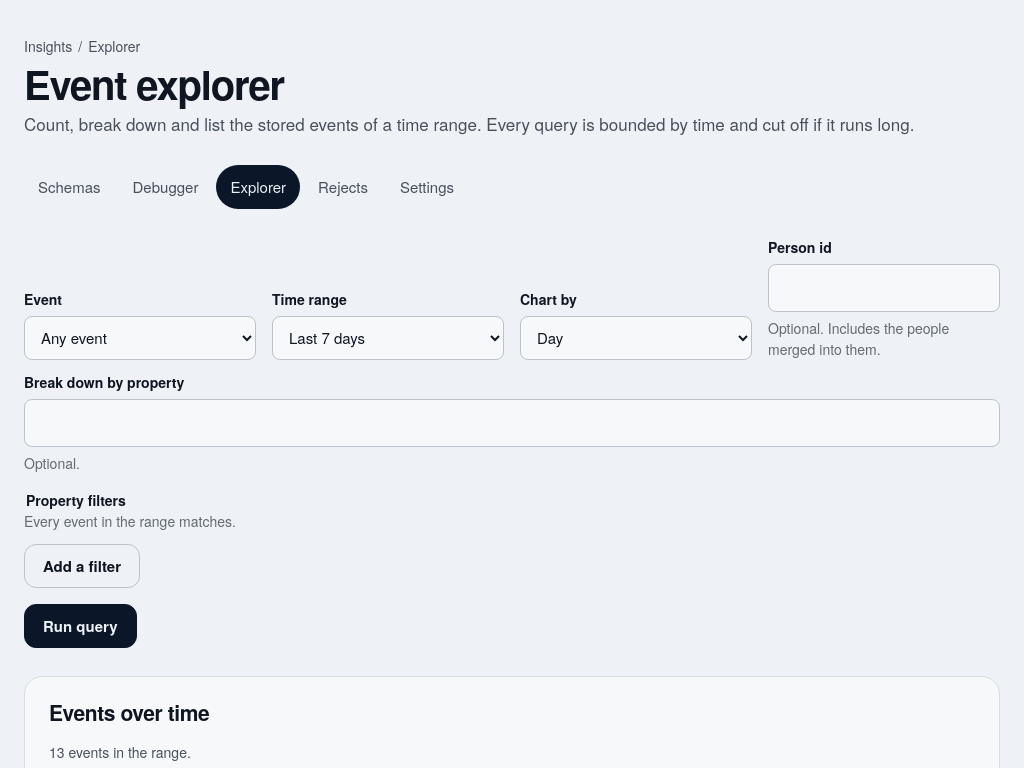
event explorer › refuses a filter without a value before asking the server
Expected: the text "13 events in the range." is shown, [49,742,191,762]
Click the button "Add a filter" at (82, 566), box [24,544,140,588]
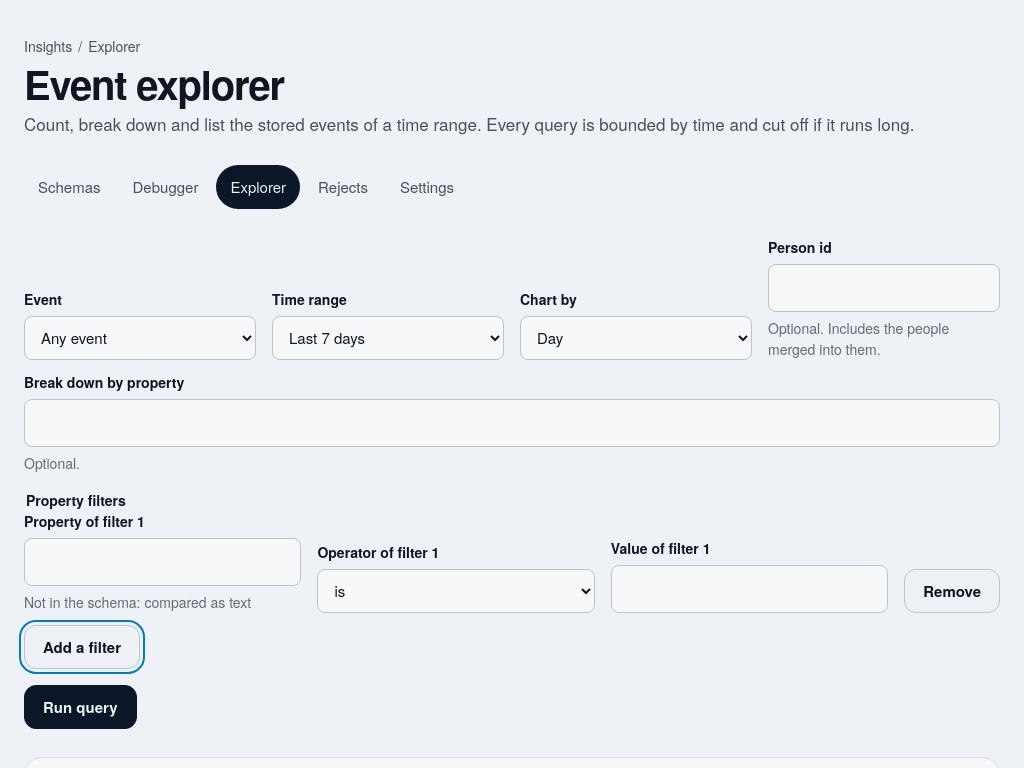
Type "plan" into the field labelled "Property of filter 1" at (163, 562), box [24,538,301,586]
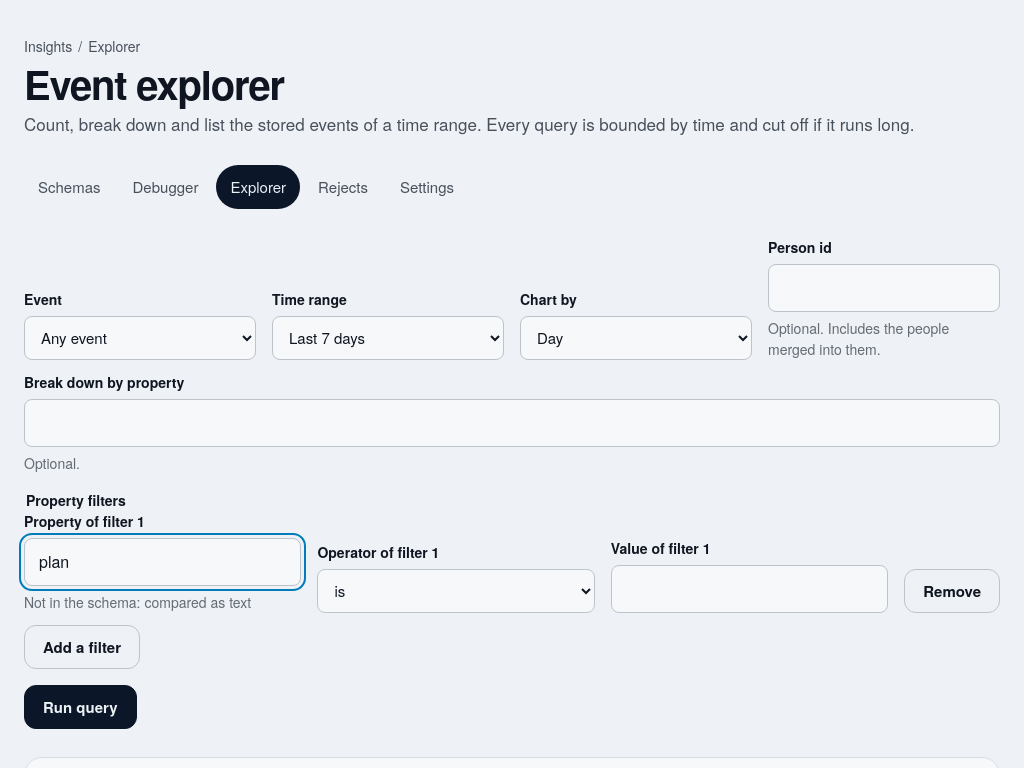
Click the button "Run query" at (80, 707), box [24,685,137,729]
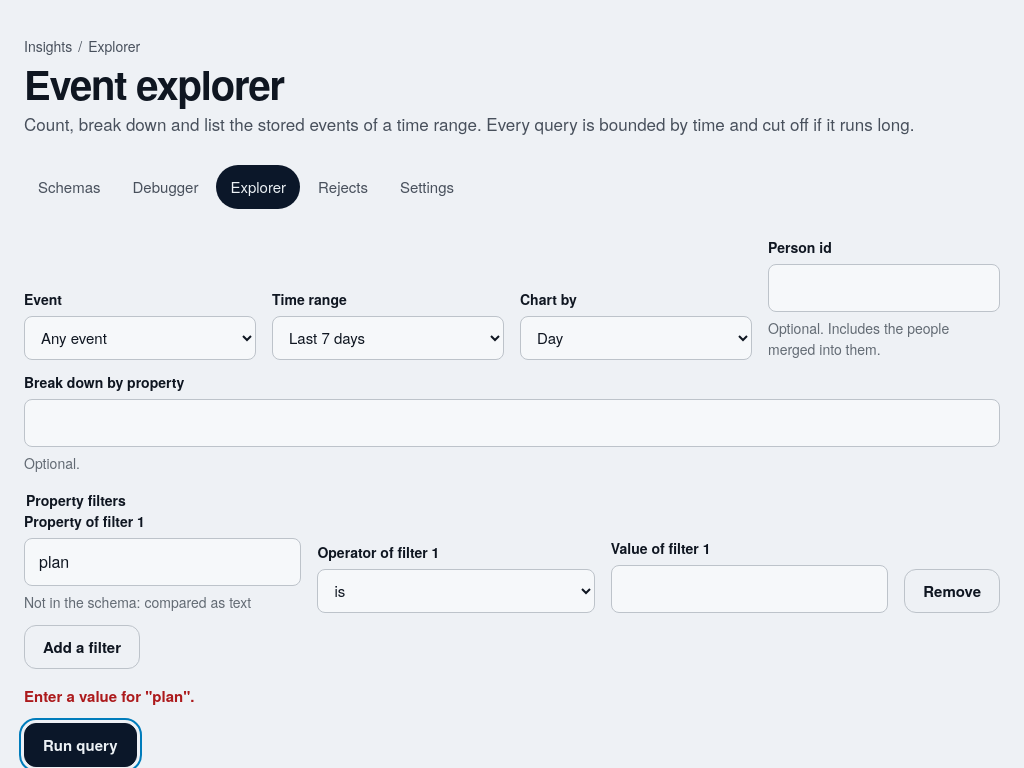
Now the text "Enter a value for \"plan\"." is shown, box [24,685,194,707]
